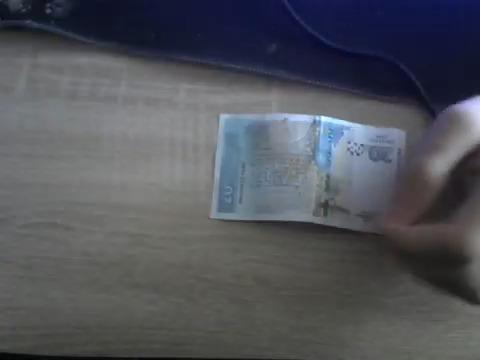20leva: (209, 112, 409, 233)
